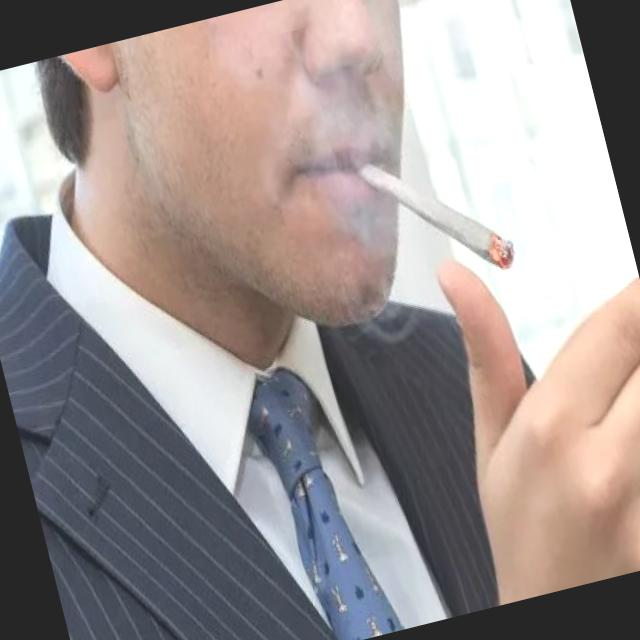smoke: (350, 124, 525, 305)
